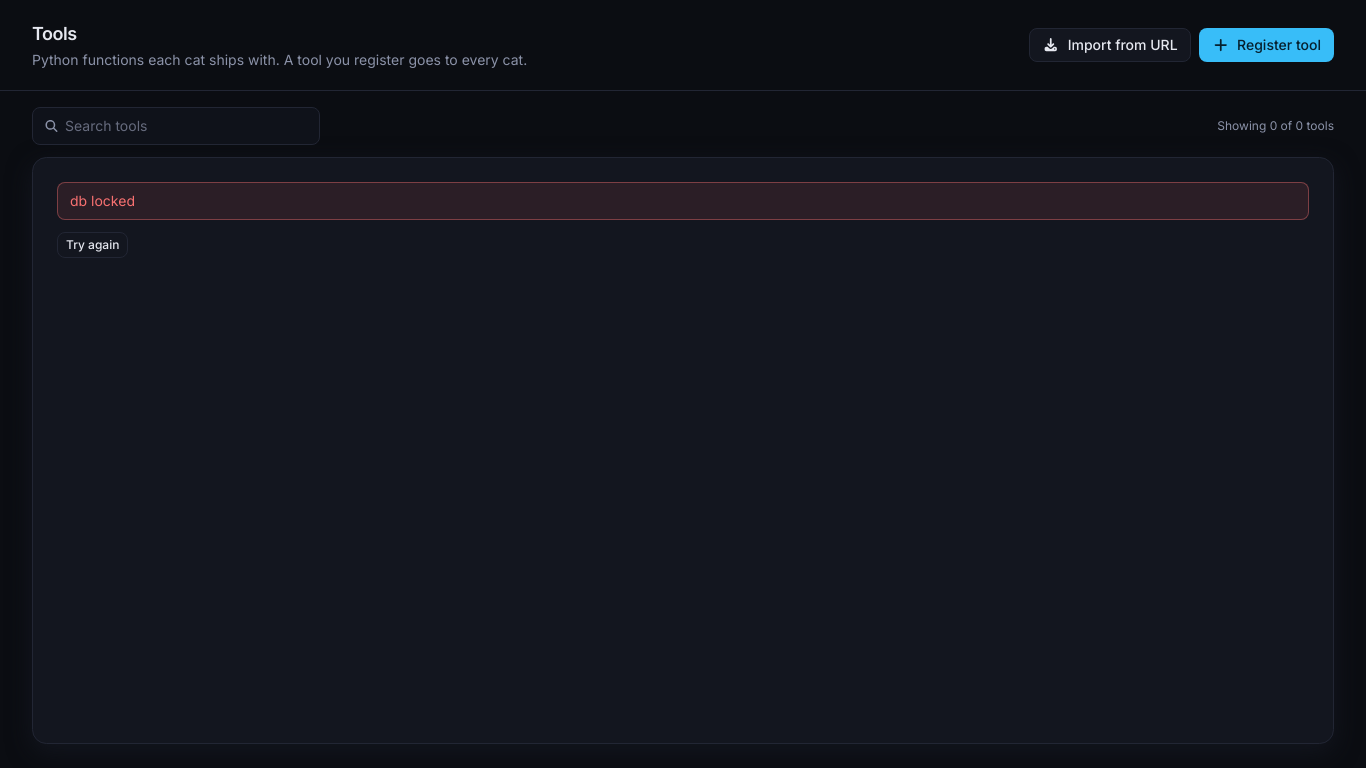
Test case: ToolsPage › shows an empty state and an error state
Check: the message reads "db locked", box [70,192,135,209]
Step 1. Click the button "Try again" → click(93, 245), box [57,232,128,258]
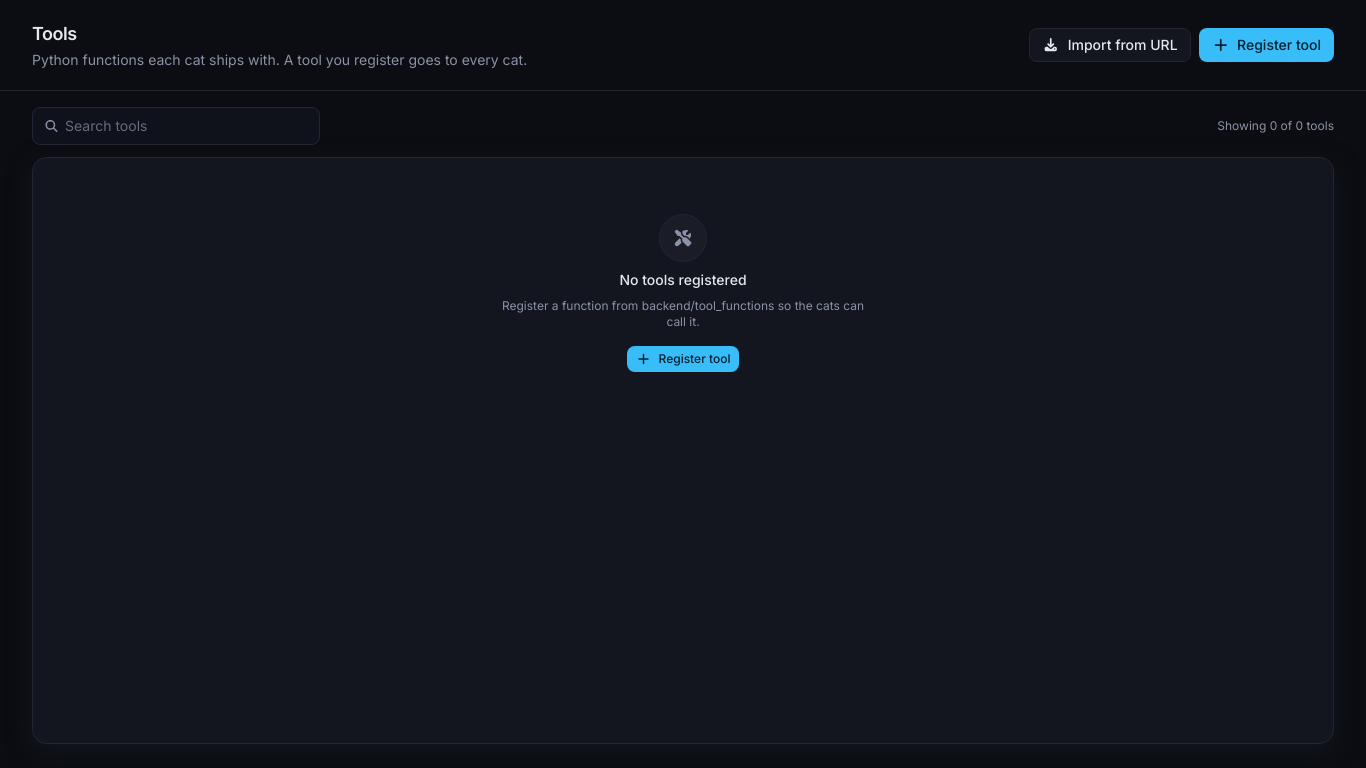
Check: the text "No tools registered" is shown, box [619,270,746,290]
